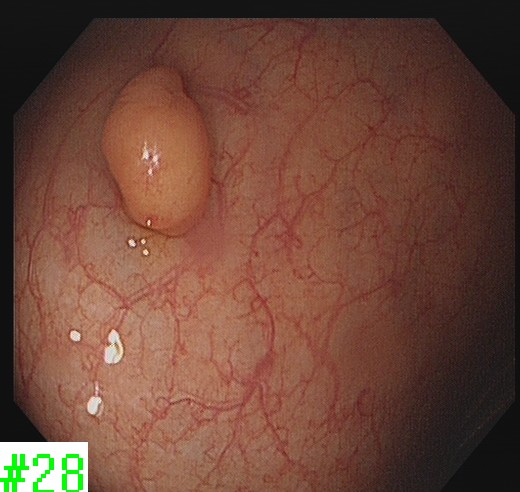adenoma: (97, 61, 217, 242)
